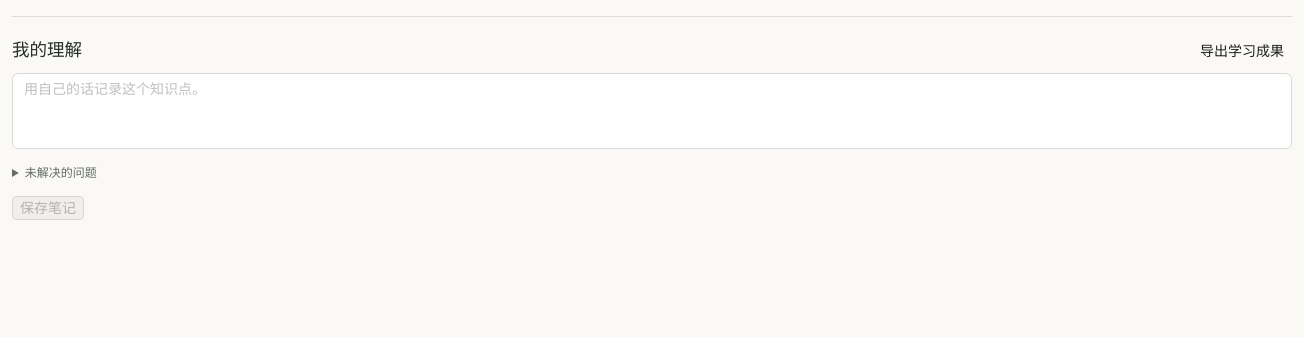
Test: node notes save explicit understanding and questions without reading export or generation
In the text box named "我的理解": (652, 111) x1=12 y1=73 x2=1292 y2=149, type "The gate scales the residual."
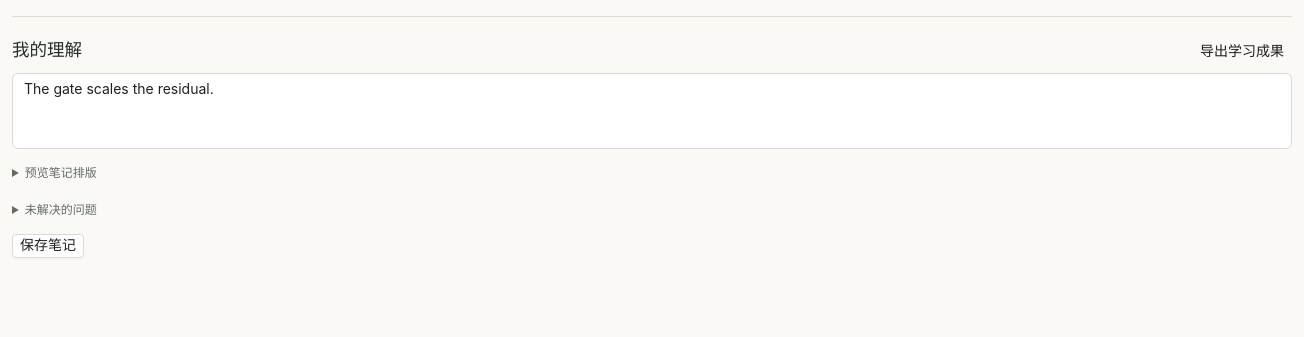
Click the heading "未解决的问题": (61, 210) x1=25 y1=201 x2=97 y2=218
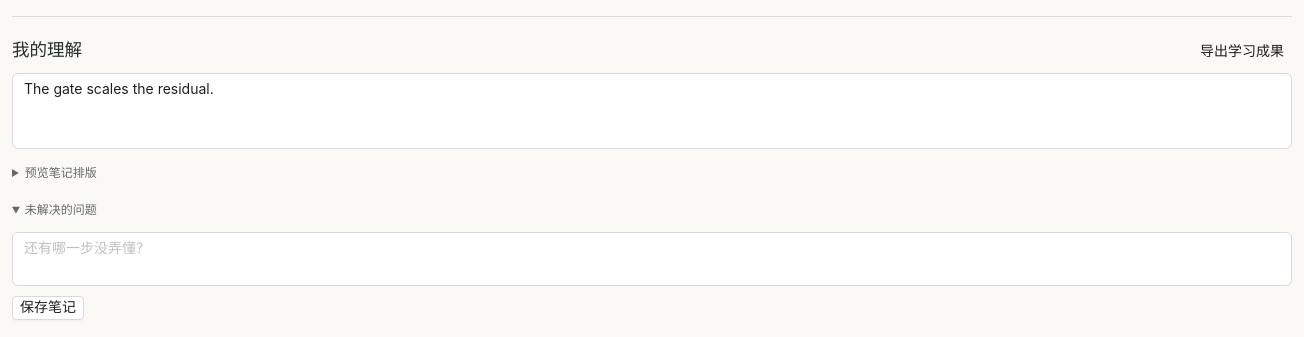
In the text box named "未解决的问题": (652, 259) x1=12 y1=232 x2=1292 y2=286, type "How is its range bounded?"
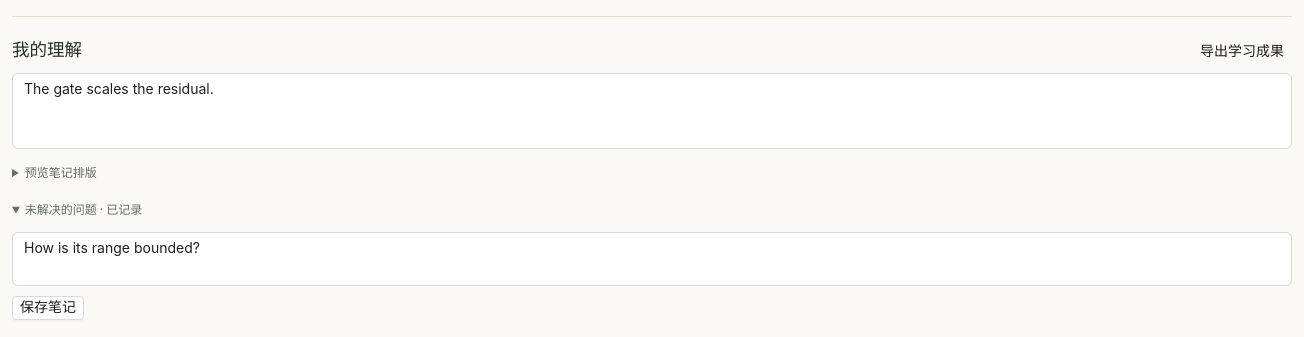
Click the button "保存笔记": (48, 308) x1=12 y1=296 x2=84 y2=320
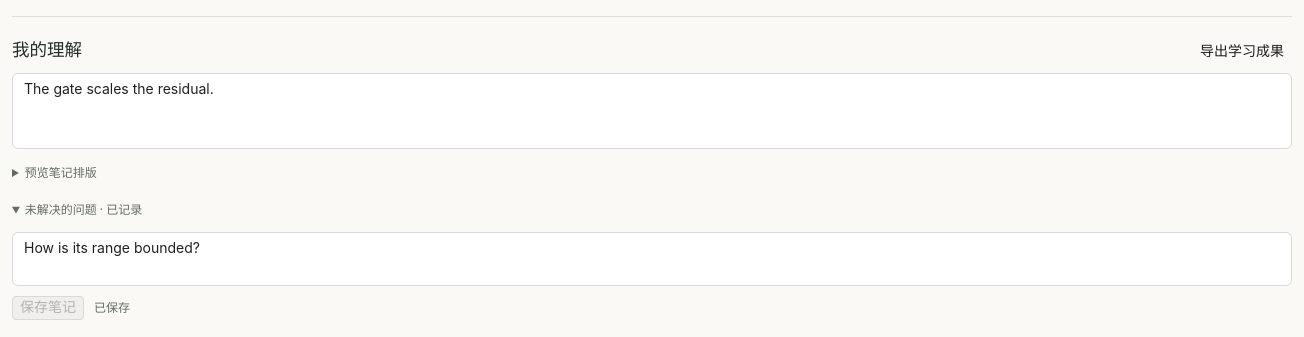
Expected: the text "已保存" is shown, x1=94 y1=298 x2=130 y2=317
